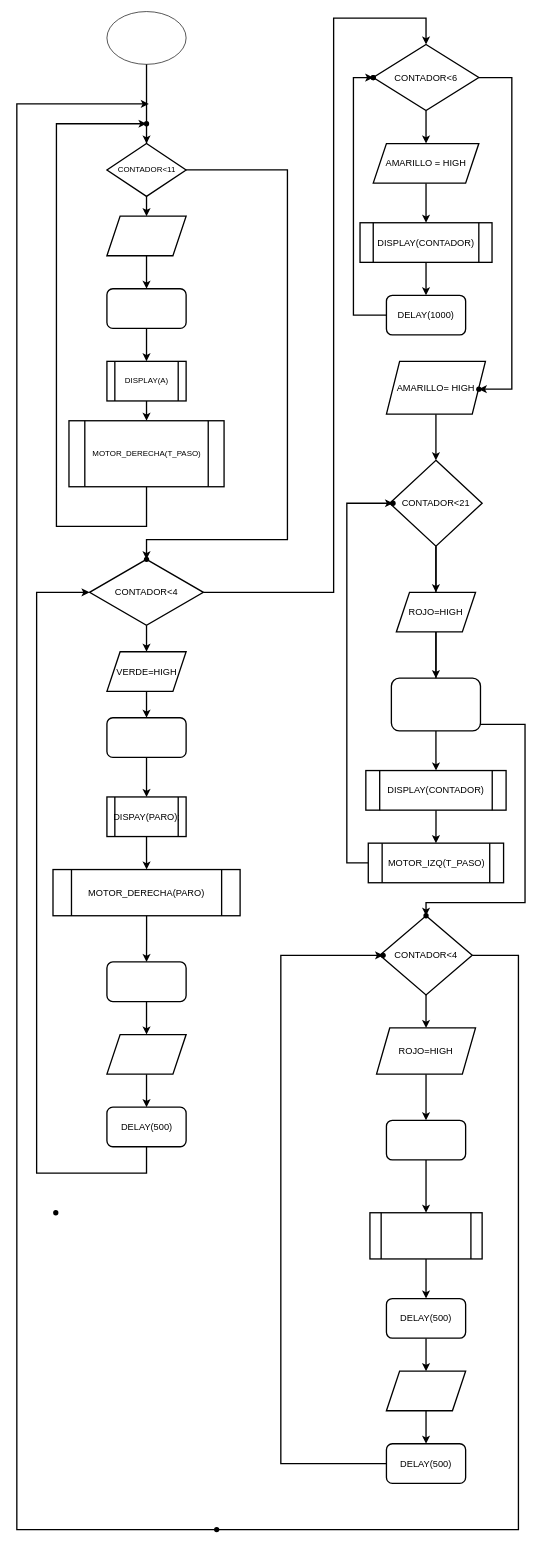
The diagram is 542 pixels wide and 1555 high, and some of its shapes have lost their labels. Each missing label, with the centre of its shape:
"DELAY(300)" belongs at (x=146, y=981).
"DISPLAY(PARO)" belongs at (x=425, y=1235).
"INICIO" belongs at (x=146, y=37).
"PARO =0" belongs at (x=425, y=1139).
"PARO=0 T_PASO(250);" belongs at (x=146, y=737).
"ROJO = LOW" belongs at (x=425, y=1390).
"T_PASO = 250; DELAY(500)" belongs at (x=146, y=308).
"T_PASO=125 DELAY(400)" belongs at (x=435, y=704).
"VERDE = LOW" belongs at (x=146, y=1054).
"VERDE= HIGH" belongs at (x=146, y=235).
